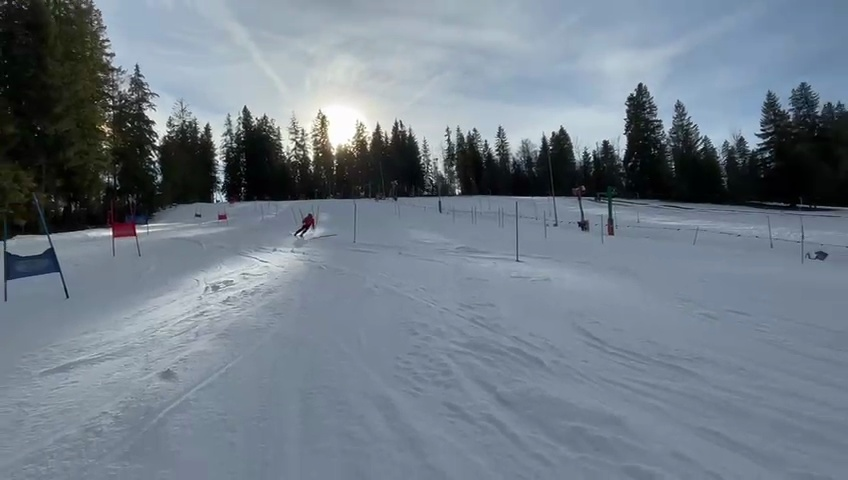gate: (32, 190, 73, 307), (0, 202, 18, 307), (127, 196, 143, 260), (511, 201, 524, 264), (106, 198, 119, 259), (350, 200, 361, 245), (764, 212, 776, 250), (313, 227, 340, 241), (599, 205, 608, 246), (495, 207, 505, 228), (468, 206, 478, 225), (218, 207, 228, 225), (259, 204, 266, 222), (215, 207, 222, 225)
